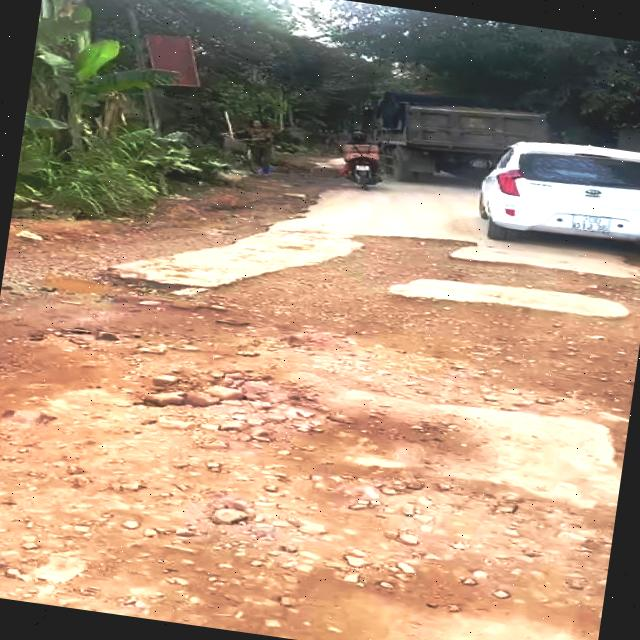pothole: (0, 246, 640, 629), (178, 209, 640, 436)
